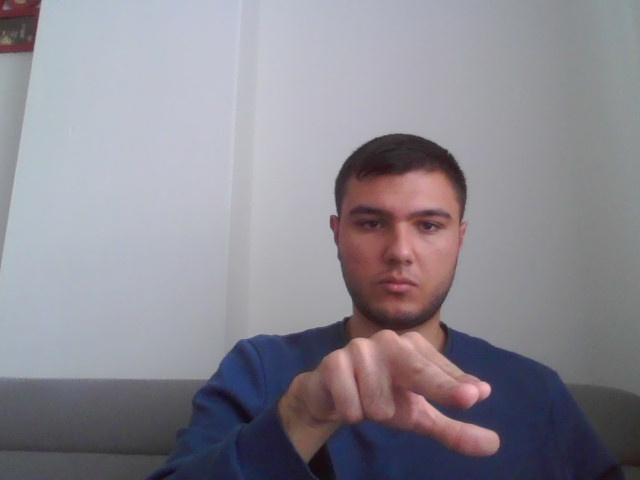no: (294, 329, 503, 461)
